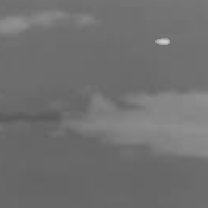Target: (154, 37, 171, 46)
